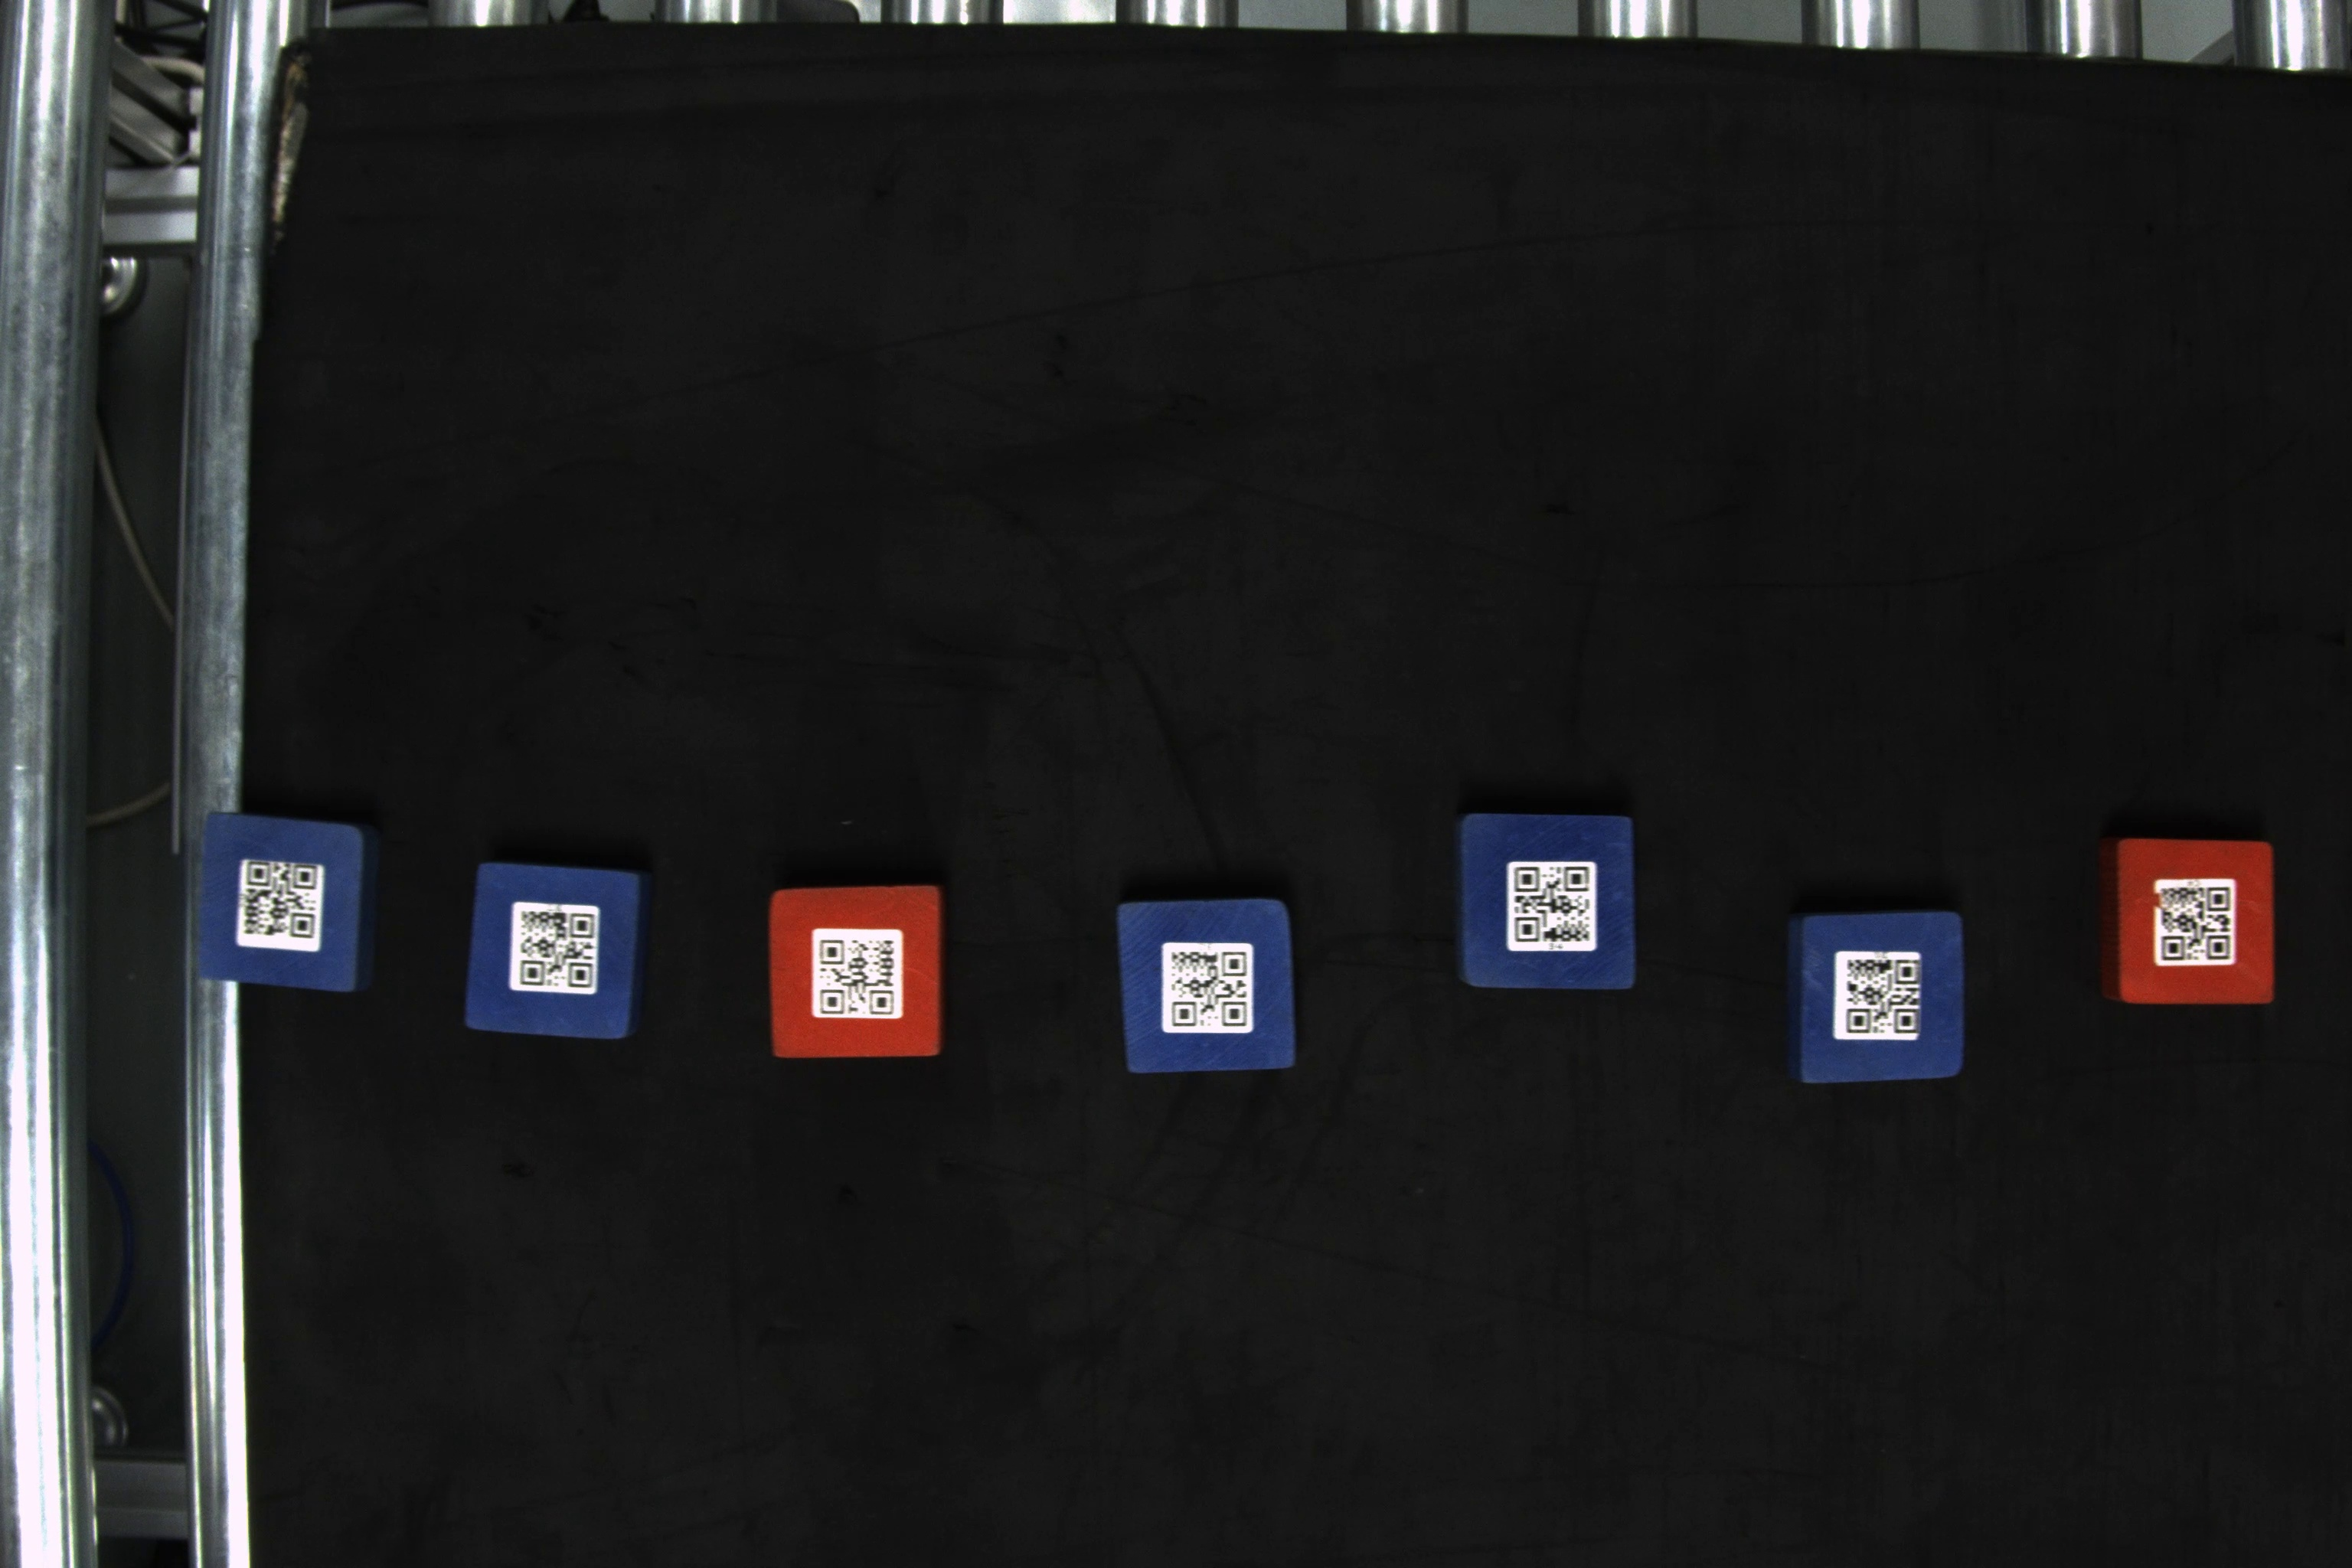wood: (460, 861, 658, 1045), (1109, 896, 1302, 1078), (189, 808, 376, 994), (761, 882, 948, 1062), (1456, 810, 1643, 990), (1781, 912, 1974, 1085), (2096, 829, 2278, 1011)
